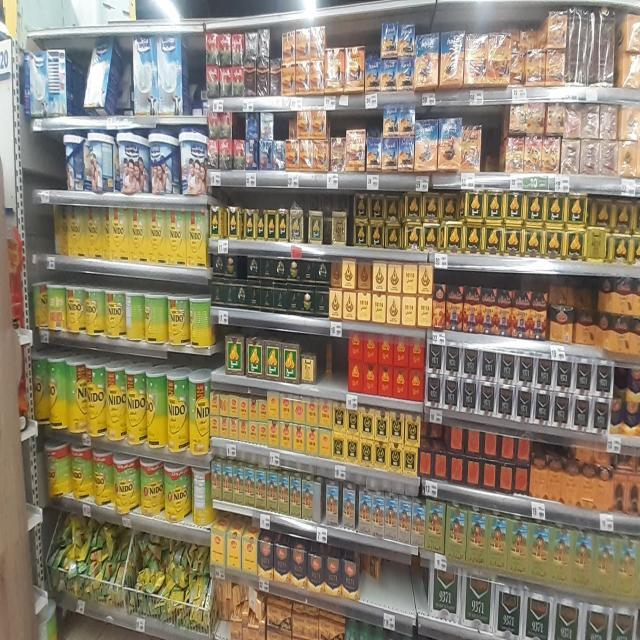produto: (30, 328, 210, 450), (428, 327, 616, 435), (43, 519, 211, 626), (514, 94, 640, 178), (463, 176, 588, 260)
vazio: (218, 311, 352, 389), (351, 538, 435, 622)
